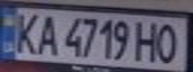1: (96, 16, 115, 60)
4: (60, 14, 84, 57)
7: (78, 15, 100, 58)
9: (112, 17, 133, 61)
A: (33, 11, 60, 56)
H: (133, 18, 163, 63)
K: (9, 9, 42, 55)
O: (151, 20, 184, 64)
